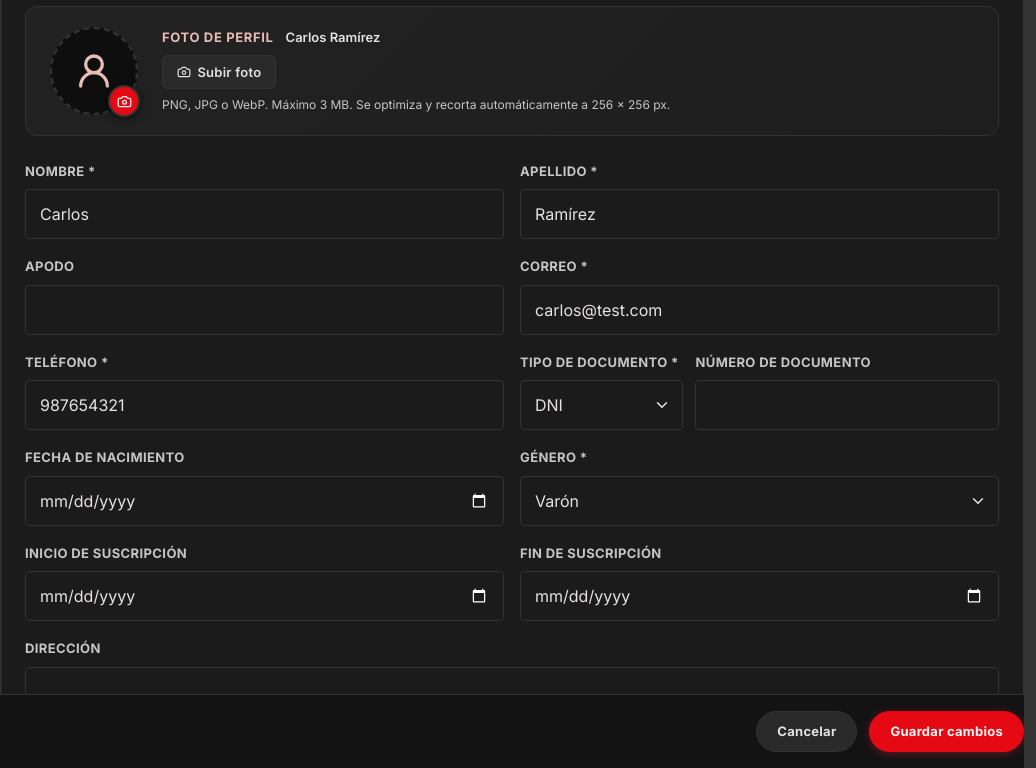
Scenario: UsuarioForm › en edición no deja vaciar un campo obligatorio que ya tenía valor
(page scrolled)
Expected: the label "Teléfono *" is shown, [25,353,109,372]
Expected: the label "Apodo" is shown, [25,257,74,277]
Clear the field with id "usuario-telefono": x=264, y=405 [25,380,504,430]
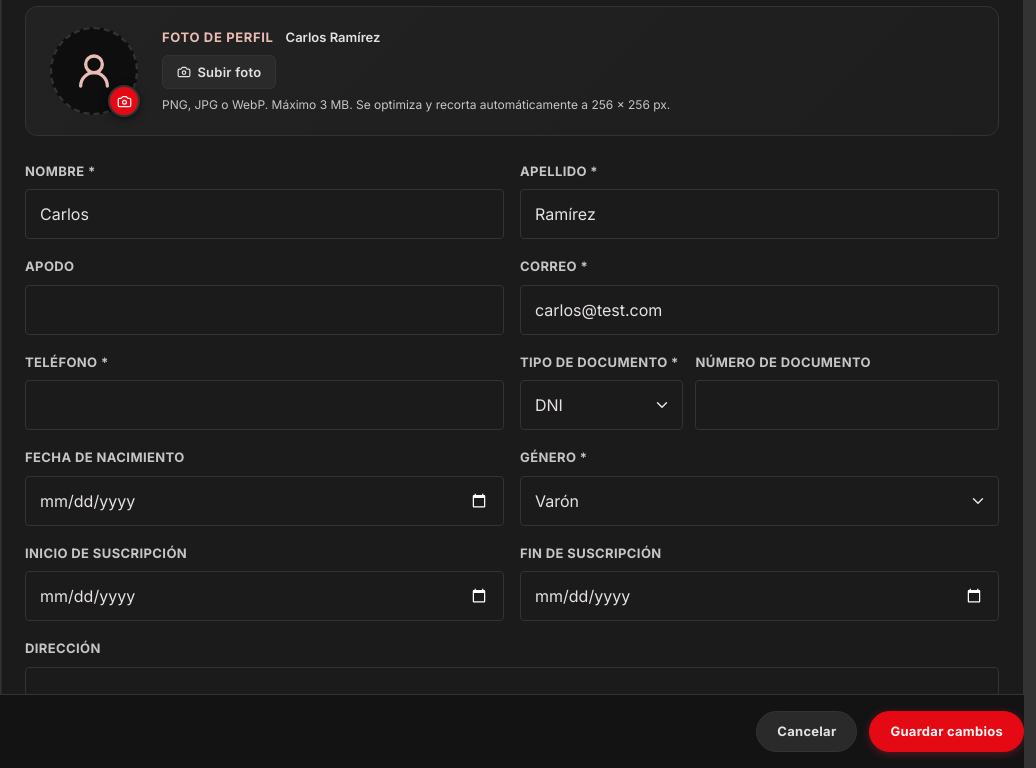
Submit the form
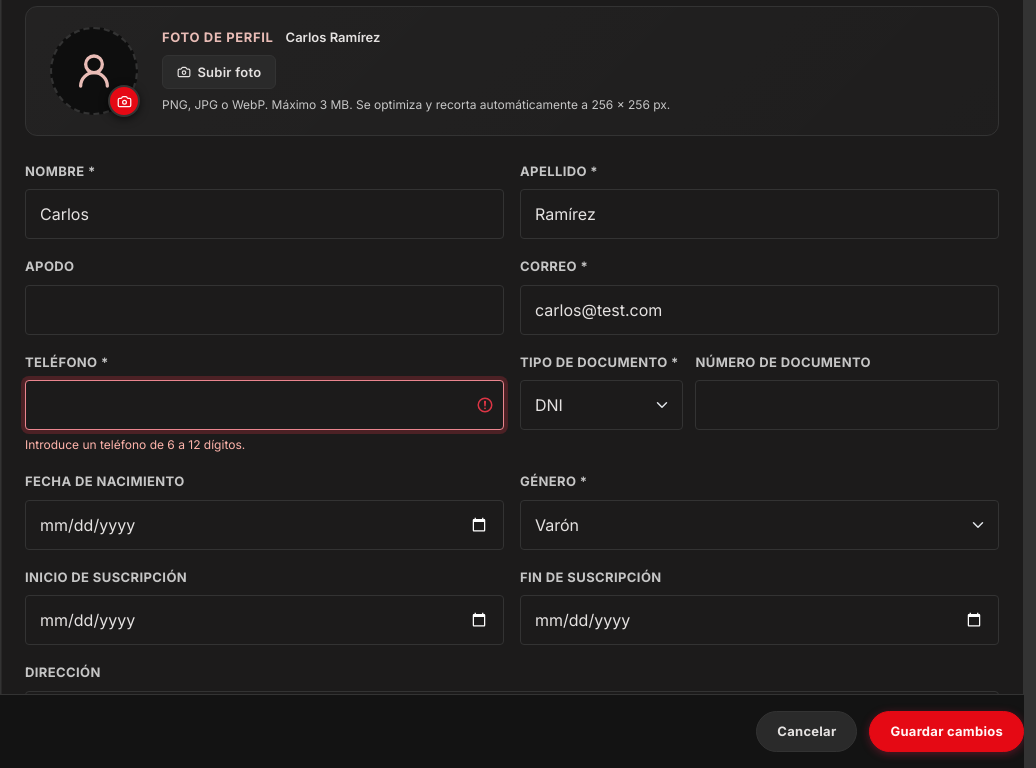
Now the text with id "error-telefono" shows "de 6 a 12 dígitos", box [25,437,245,452]
